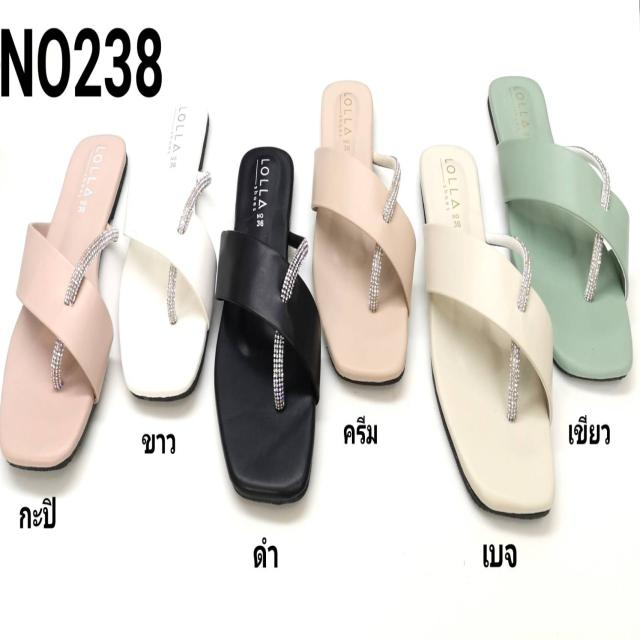bej: (422, 142, 555, 524)
black: (217, 146, 318, 503)
cream: (313, 80, 412, 385)
green: (485, 64, 635, 380)
kapi: (0, 132, 127, 488)
white: (117, 104, 218, 405)
